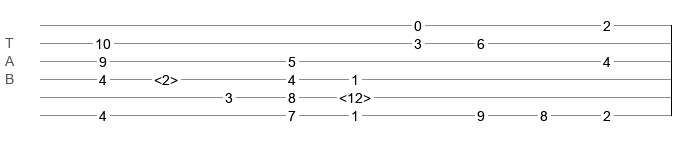0: (414, 18, 422, 28)
1: (351, 108, 359, 118), (351, 72, 359, 82)
10: (95, 36, 111, 46)
2: (603, 108, 611, 118), (603, 18, 611, 28)
3: (225, 90, 233, 100), (414, 36, 422, 46)
4: (99, 72, 107, 82), (99, 108, 107, 118), (288, 72, 296, 82), (603, 54, 611, 64)
5: (288, 54, 296, 64)
6: (477, 36, 485, 46)
7: (288, 108, 296, 118)
8: (288, 90, 296, 100), (540, 108, 548, 118)
9: (99, 54, 107, 64), (477, 108, 485, 118)
harmonic: (339, 90, 371, 100), (154, 72, 178, 82)
